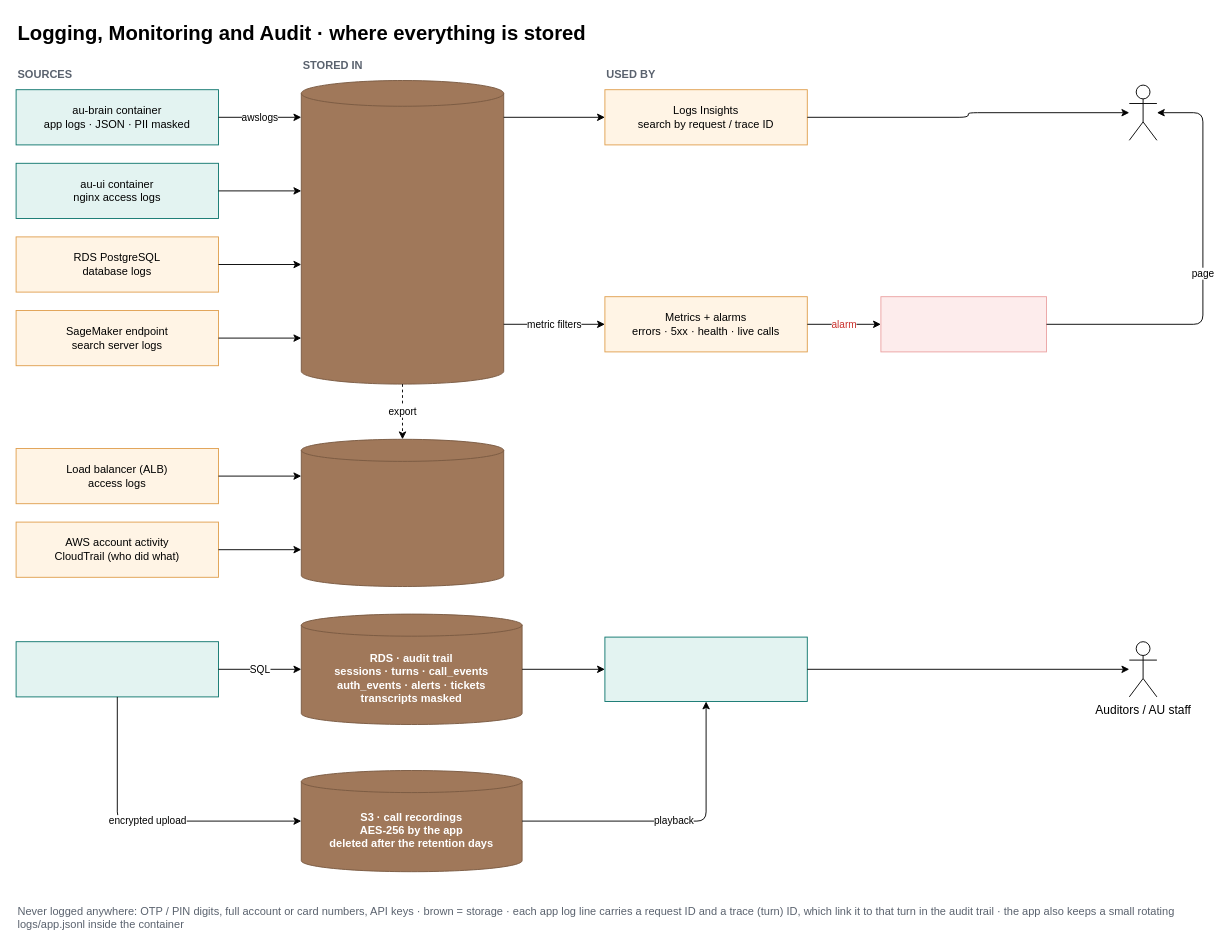
This 1230x951 diagram has some shape labels left out. The shapes that lost their labels are listed below. From the top down, each one's centre as x and y in pixels, then its label:
At point (1142, 112): "Ops / AWS team".
At point (402, 232): "CloudWatch Logs /au/brain · /au/ui /aws/rds/… · /aws/sagemaker/… kept 30–90 days".
At point (963, 324): "SNS email / SMS to on-call".
At point (402, 512): "S3 log archive ALB logs · CloudTrail exported logs kept per bank policy".
At point (116, 669): "Each call turns · events · actions · audio".
At point (705, 669): "Staff console /calls · /desk · /fixes transcript, events, playback".
